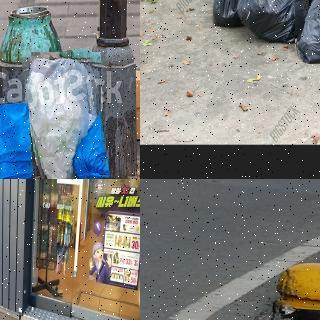Garbage: (26, 49, 105, 179), (0, 100, 68, 179), (237, 0, 302, 42), (293, 0, 320, 62), (212, 0, 258, 27)
